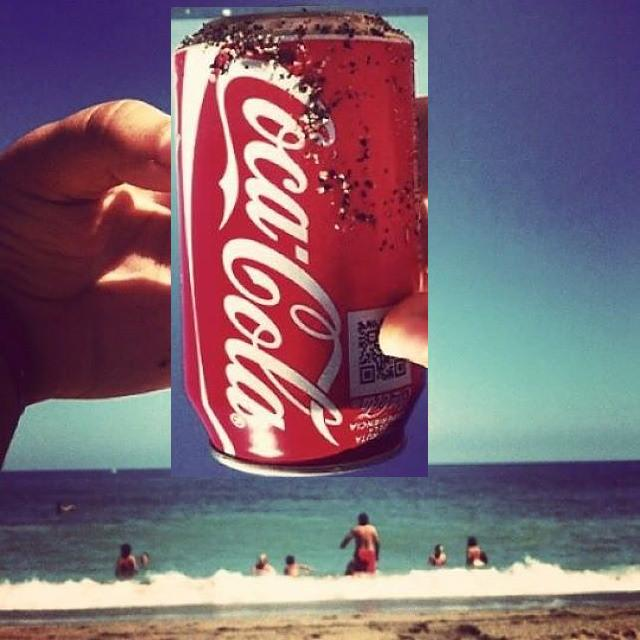coca-cola: (171, 7, 428, 477)
